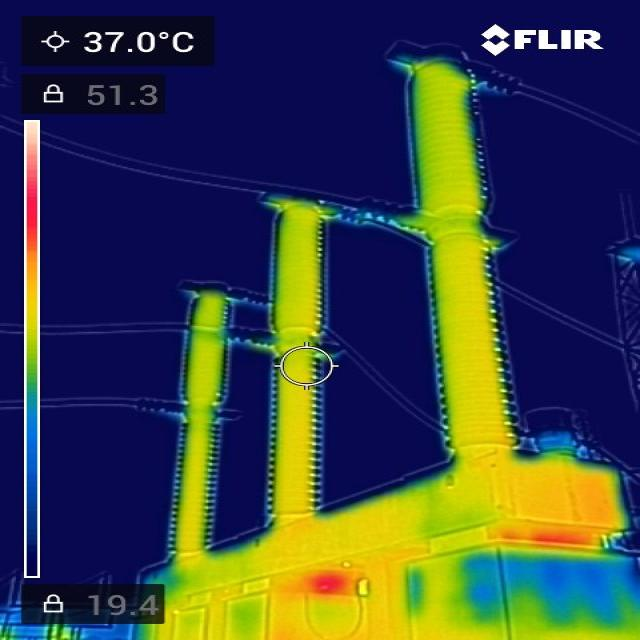Zona_Atenco: (526, 471, 620, 530), (500, 523, 597, 549)
Zona_Critica: (314, 573, 355, 594)
